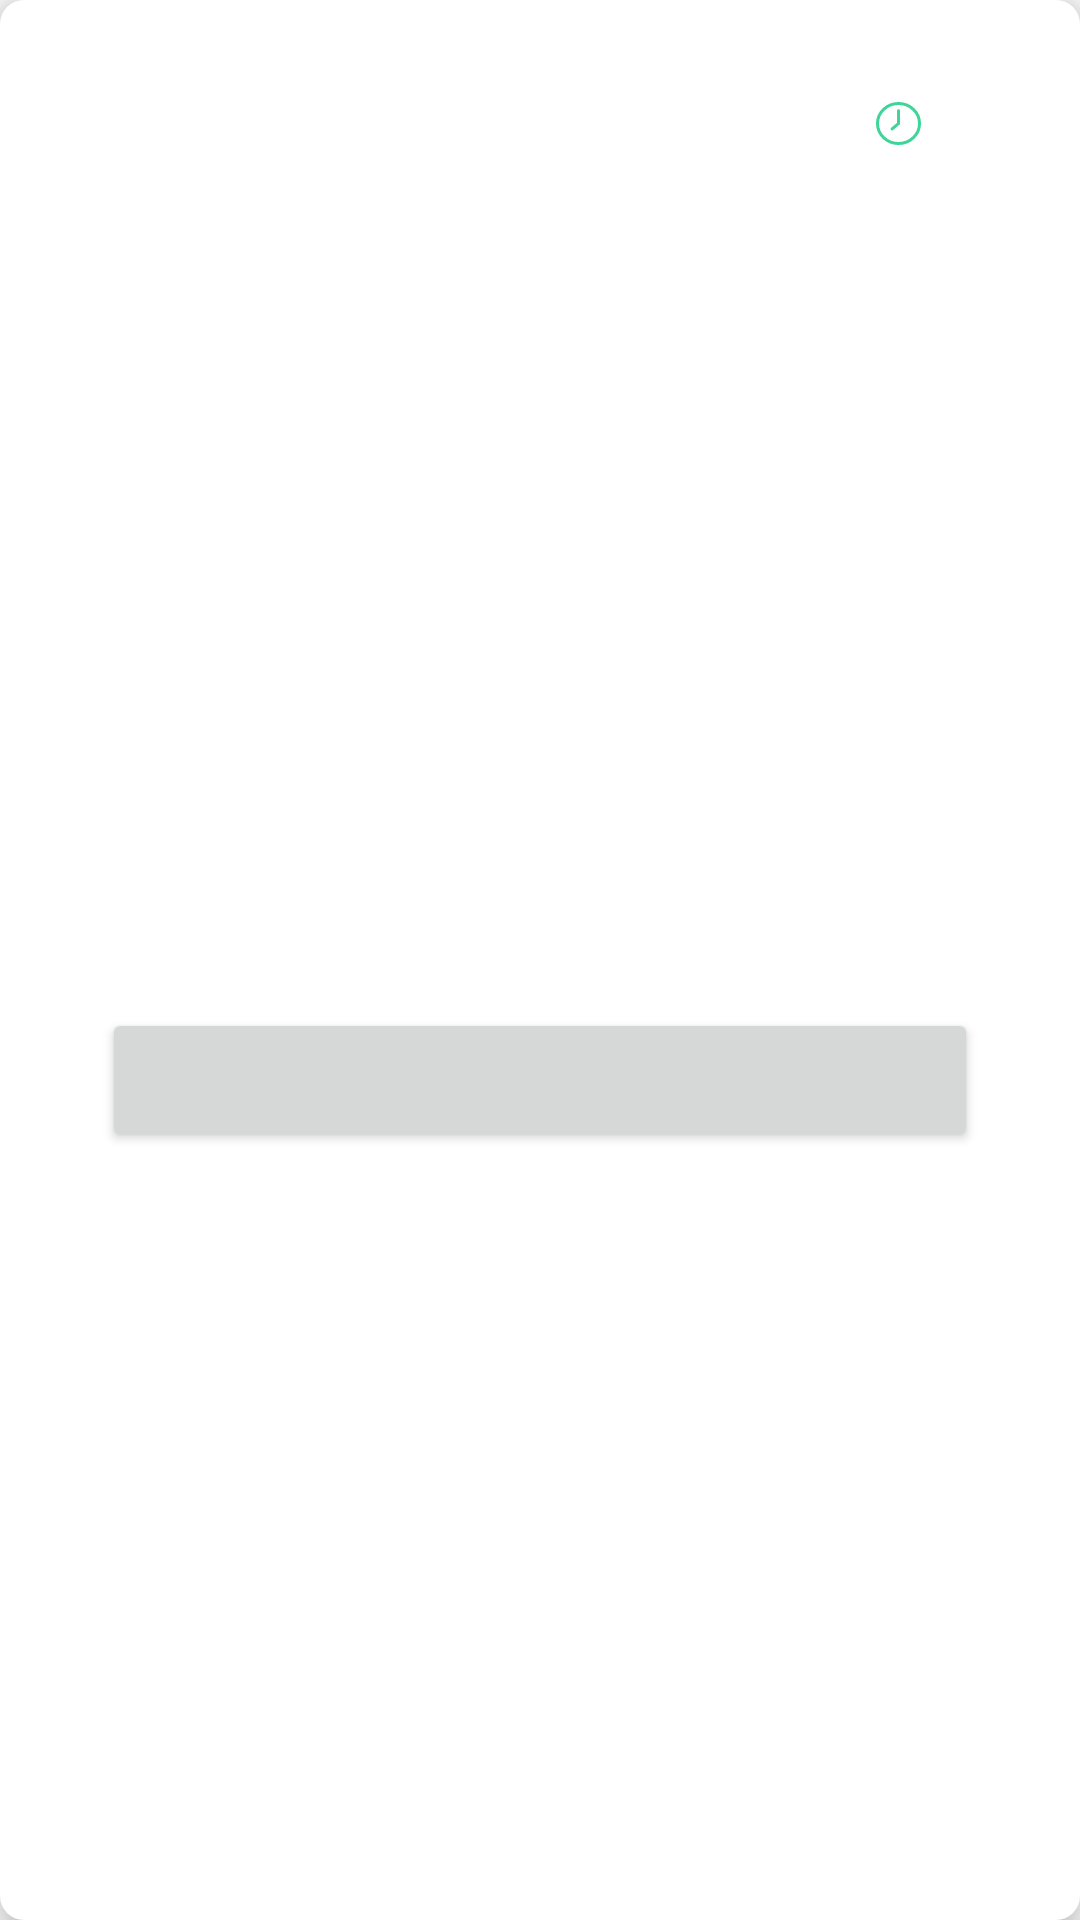

Named icons in this screenshot (1080×1920) and their centers, point (x, y):
time: point (898, 123)
